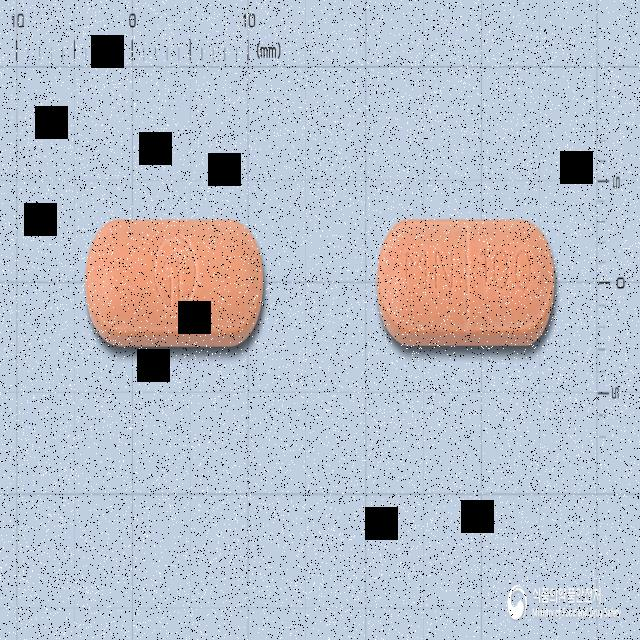Monocin: (378, 220, 556, 348), (84, 219, 264, 345)
